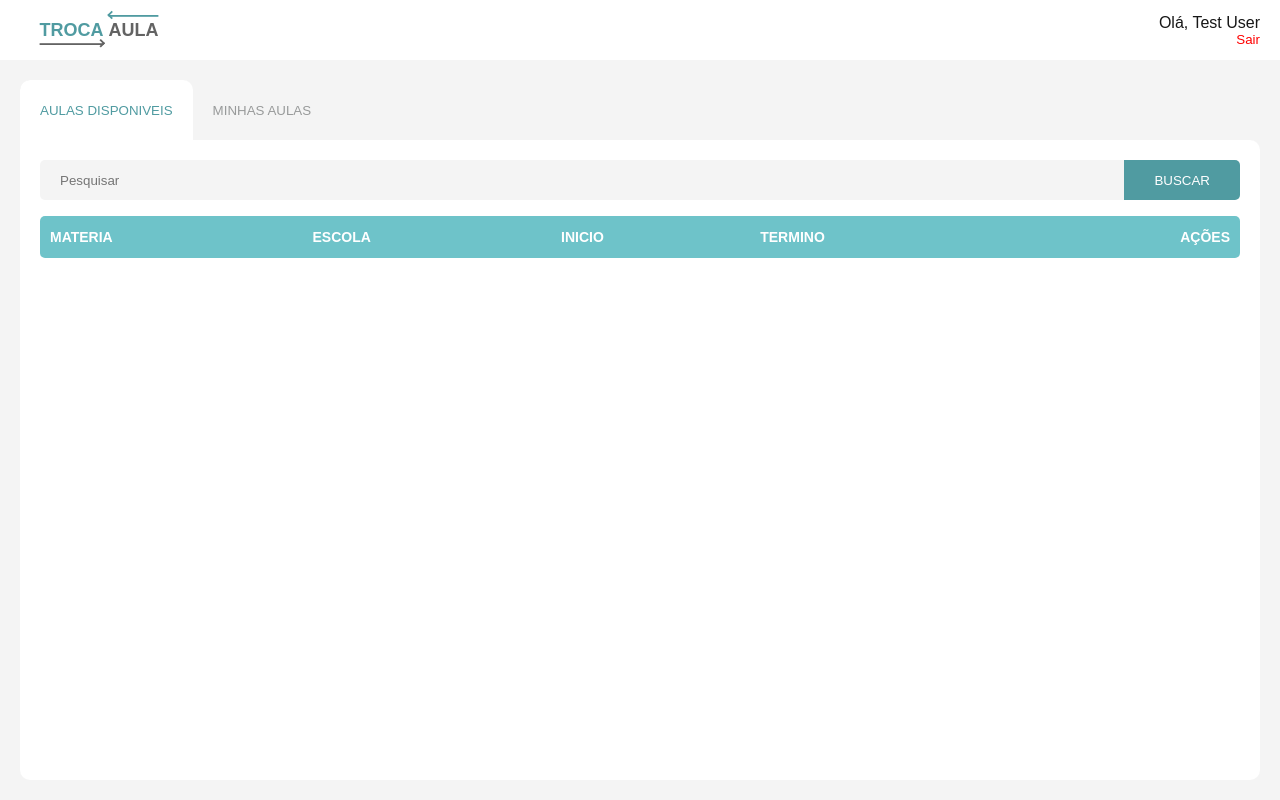
Dashboard Page › filters correctly for teachers in "Minhas Aulas"
This screenshot has width=1280, height=800.
Click the button "Minhas Aulas" at coordinates (262, 110), box [193,80,331,140]
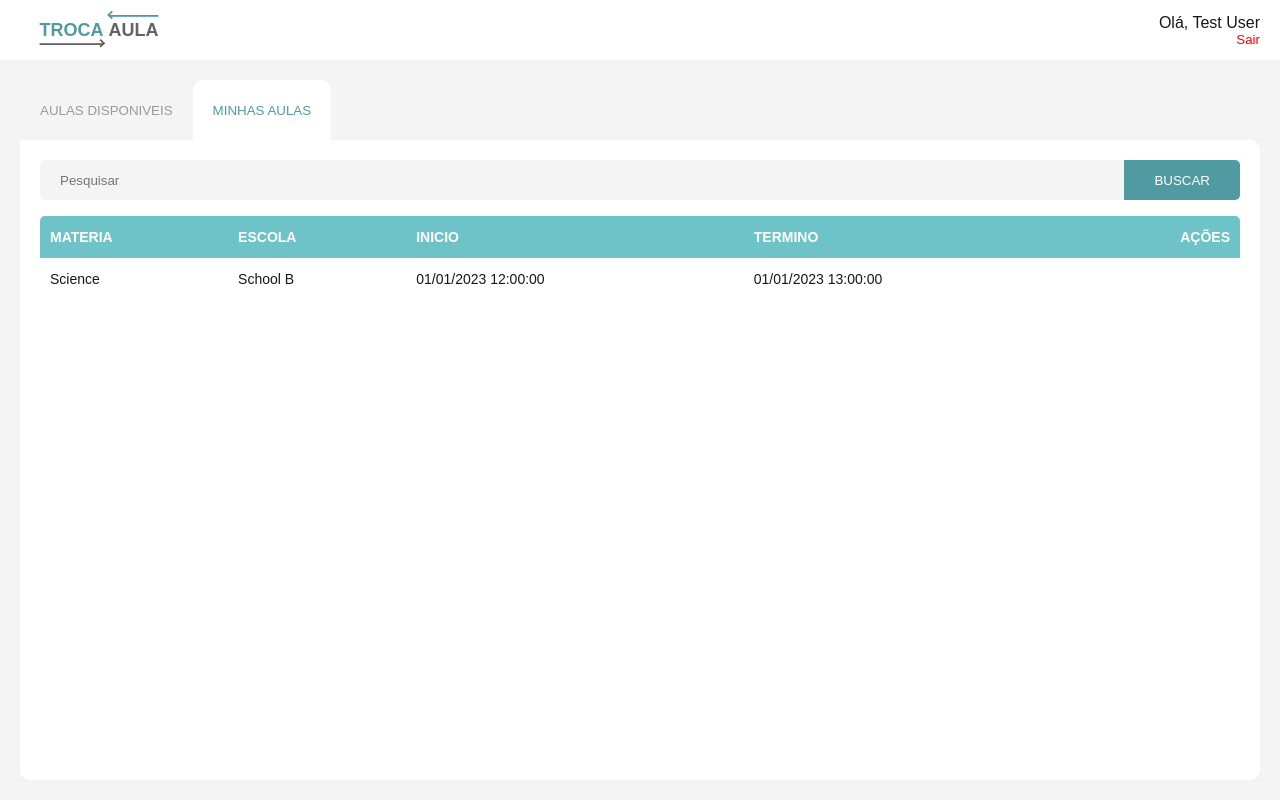
Now the cell "Science" is shown, box [40,258,228,300]
